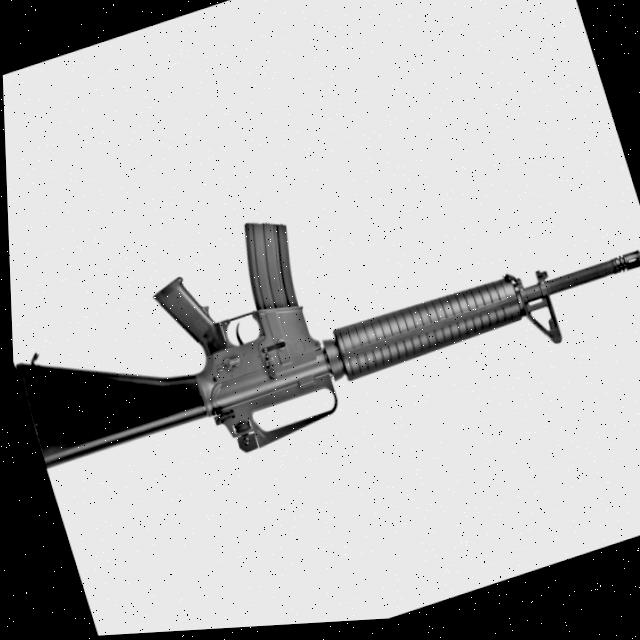firearm: (4, 112, 640, 519)
